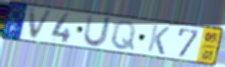4: (49, 12, 74, 45)
7: (175, 27, 201, 58)
K: (146, 23, 172, 56)
Q: (110, 20, 138, 52)
U: (81, 13, 114, 49)
V: (27, 8, 55, 41)
